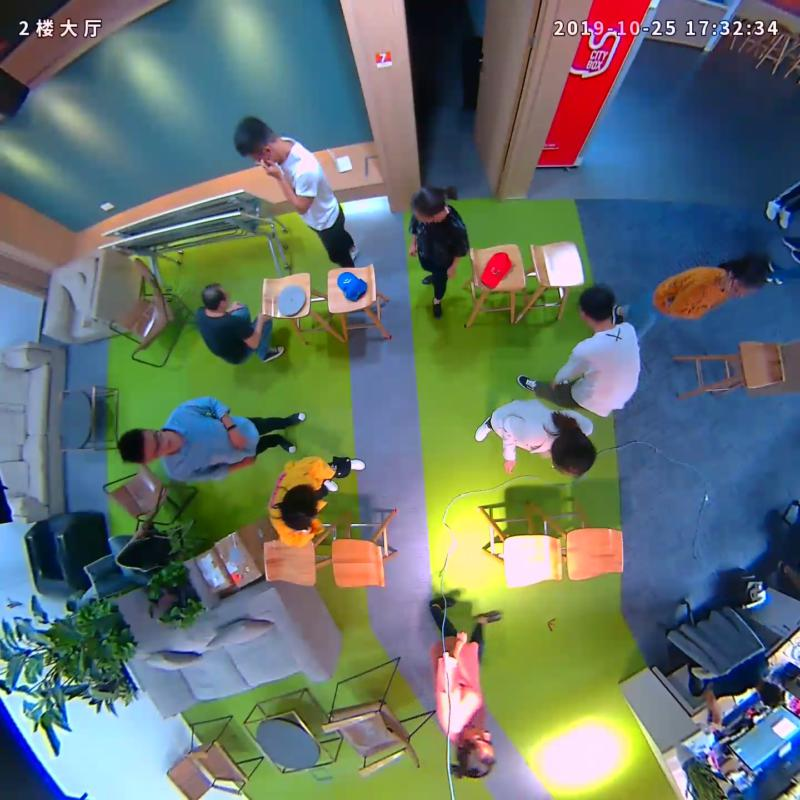head: (111, 424, 183, 471), (229, 114, 290, 169), (546, 424, 602, 483), (446, 728, 503, 781), (274, 482, 328, 531), (720, 251, 776, 298), (575, 280, 627, 330), (407, 181, 456, 226), (194, 281, 230, 313)
